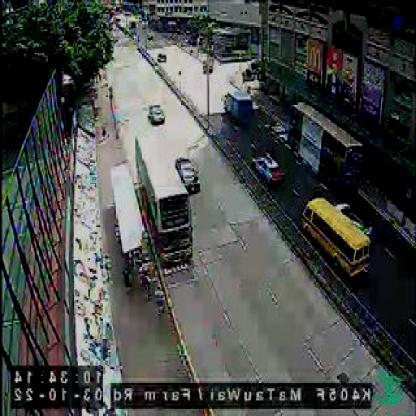Bus: (132, 128, 192, 269), (287, 101, 363, 194), (306, 198, 370, 272)
Car: (338, 203, 372, 232), (255, 151, 285, 182), (177, 154, 203, 189), (151, 104, 166, 123)
Truck: (224, 89, 254, 127)
